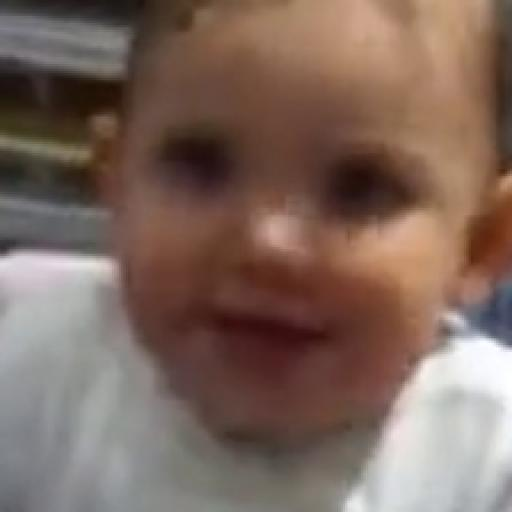Autism: (117, 12, 512, 438)
